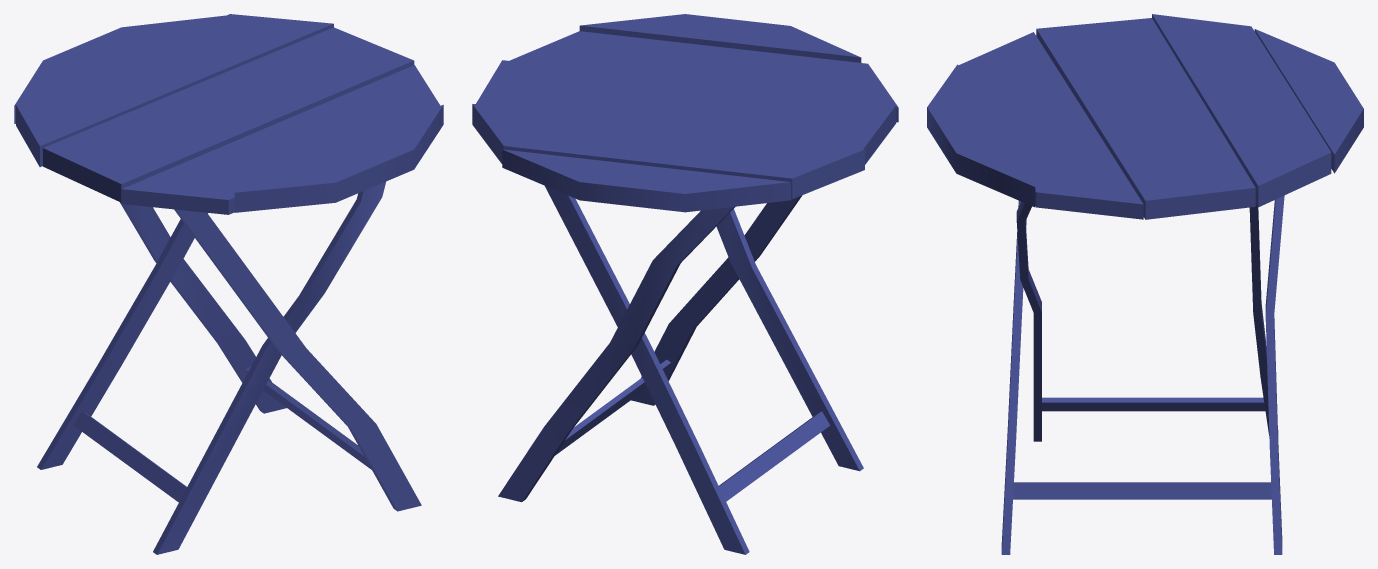
Rendered from SM_Table_01.fbx.
3 views of the same model, side by side, from view 1: azimuth 30°, elevation 25°; view 2: azimuth 150°, elevation 25°; view 3: azimuth 270°, elevation 25° (orthographic). The views are drawn at different scales.
Parts seen in each view (by area): view 1: SM_Table_01; view 2: SM_Table_01; view 3: SM_Table_01.
Part boxes in pixels (x1,y1,x2,y2): SM_Table_01: (14, 14, 443, 554); SM_Table_01: (472, 14, 898, 554); SM_Table_01: (927, 14, 1363, 554).
Size of the model in its own units: 347 by 340 by 347.
